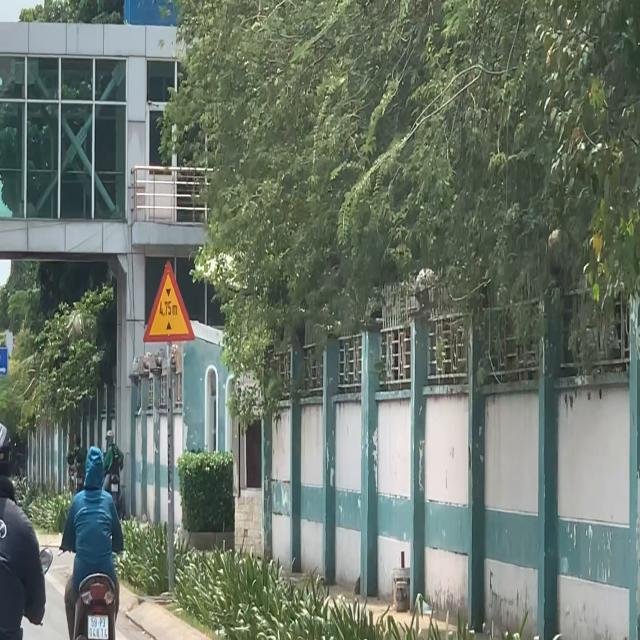Nguy hiem: (141, 258, 198, 346)
